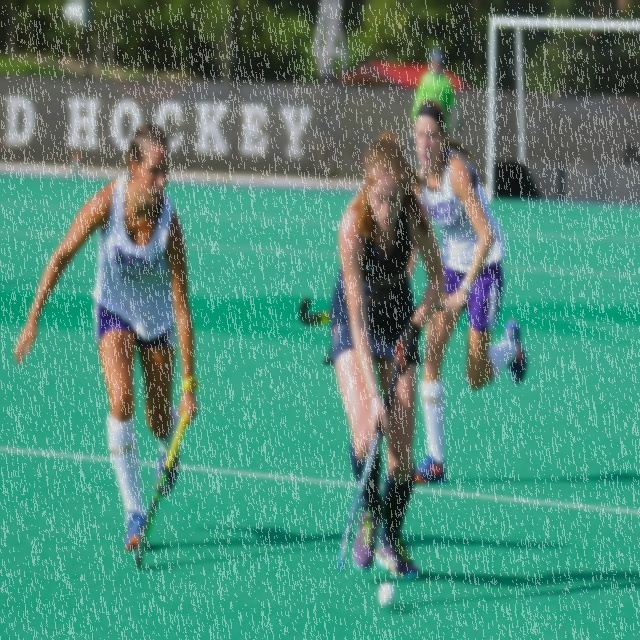pessoa: (12, 115, 202, 560), (324, 128, 452, 588), (406, 98, 530, 484), (410, 43, 464, 140)
